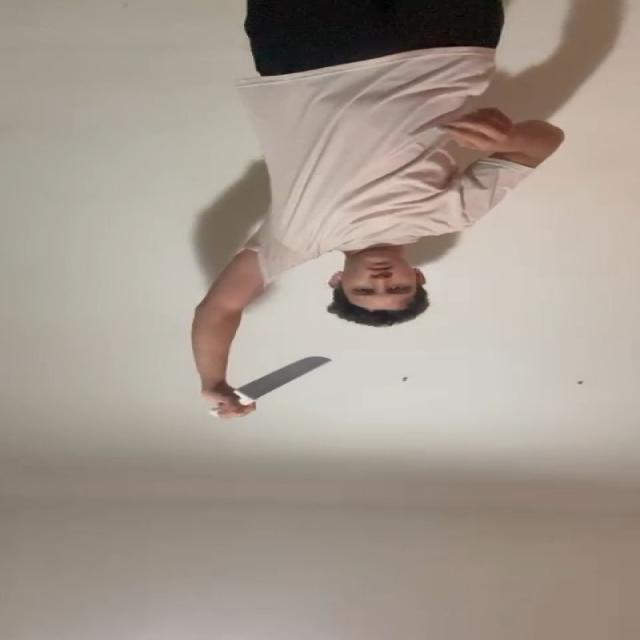knife: (244, 354, 336, 400)
